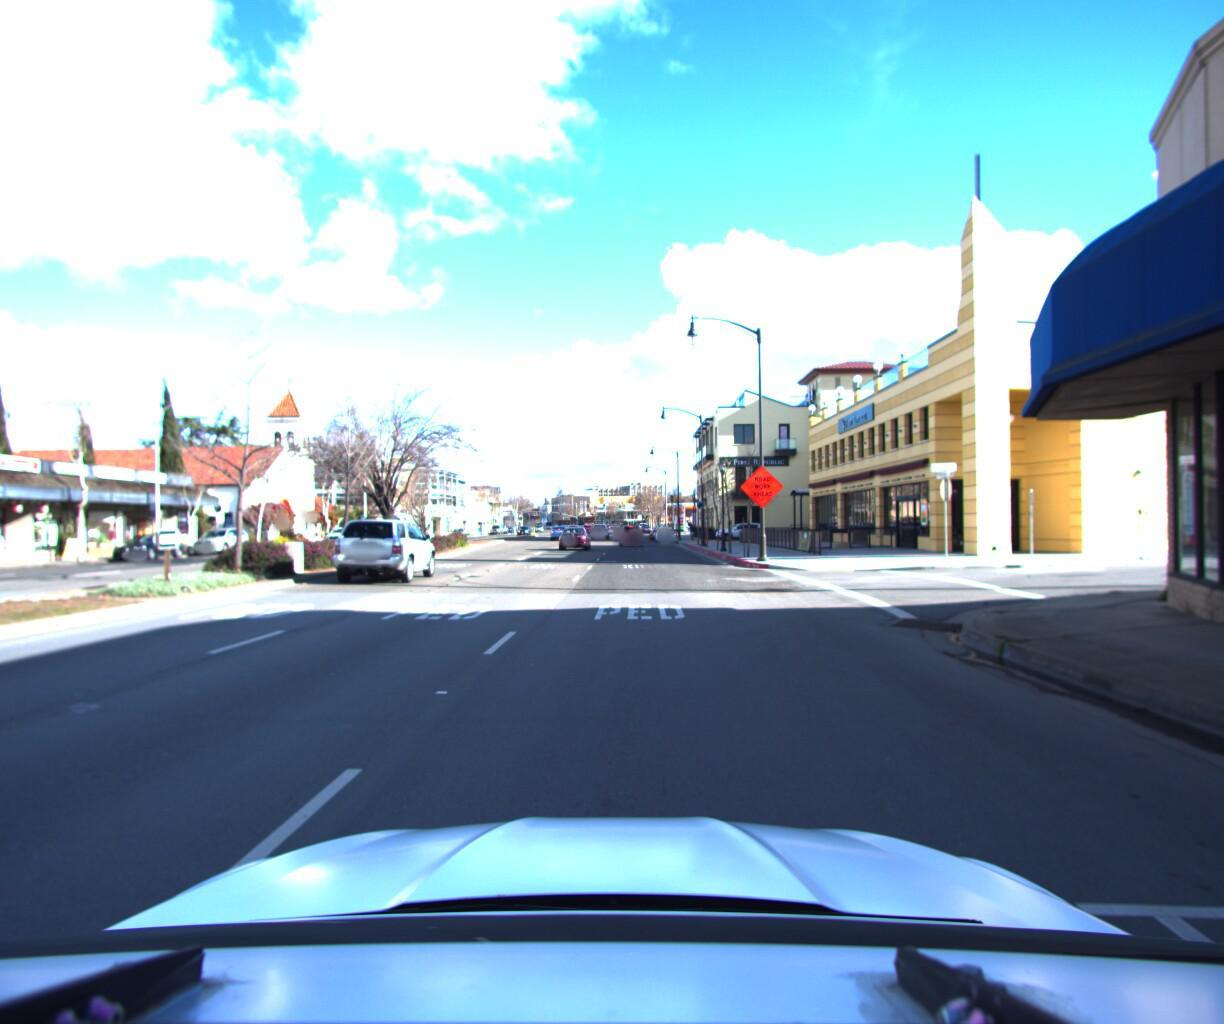car: (336, 514, 444, 588), (113, 534, 196, 566), (193, 528, 259, 556), (715, 522, 767, 541), (561, 524, 593, 551), (328, 525, 365, 546), (620, 525, 644, 547), (552, 524, 574, 540), (657, 526, 676, 543)
